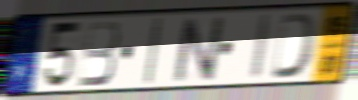5: (42, 20, 82, 91)
B: (76, 19, 122, 89)
D: (268, 11, 320, 81)
I: (248, 12, 275, 82), (142, 15, 165, 88)
N: (172, 15, 226, 85)
